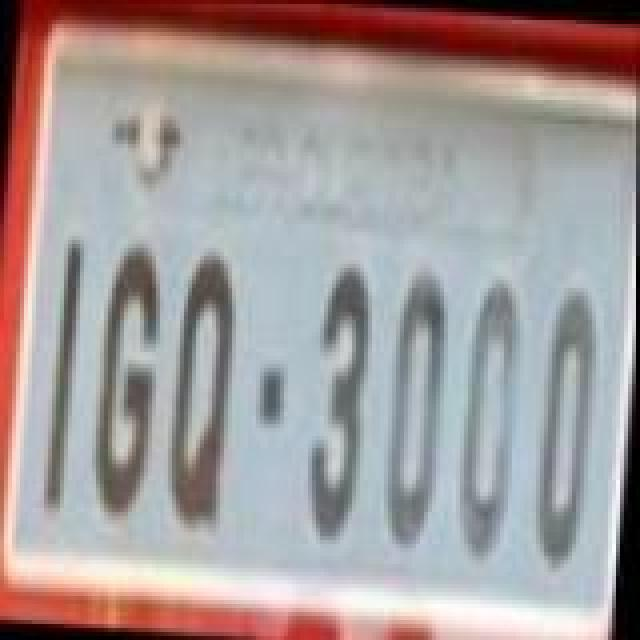1: (44, 230, 92, 514)
3: (298, 258, 378, 546)
G: (90, 230, 174, 514)
O: (378, 258, 458, 550), (450, 272, 530, 564), (532, 278, 608, 570)
Q: (162, 244, 242, 540)
